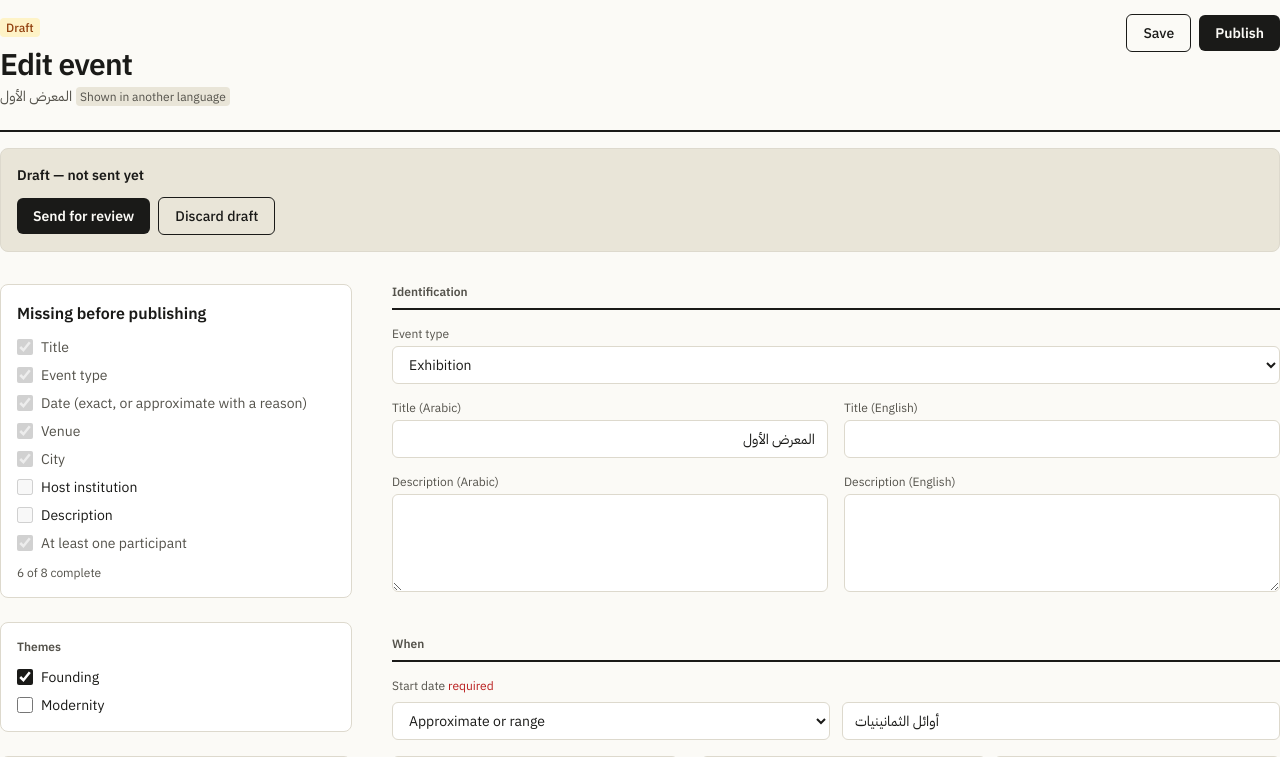
EventEditPage (edit) › draft mode (proposals.submit) › discarding the draft resets the form to live values
Click the button with test id "discard-draft" at (217, 216), box [158,197,275,235]
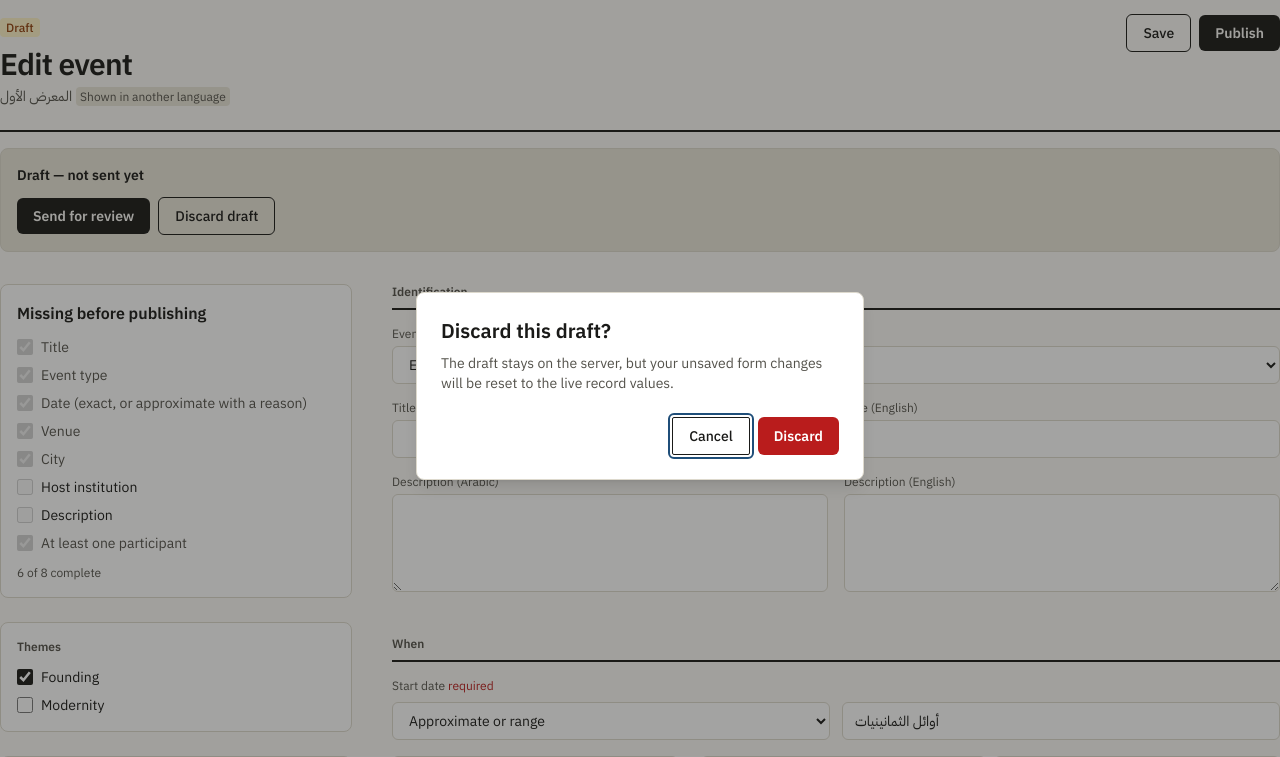
Click the button with test id "confirm-dialog-confirm" at (798, 436), box [758,417,839,455]
(page scrolled)
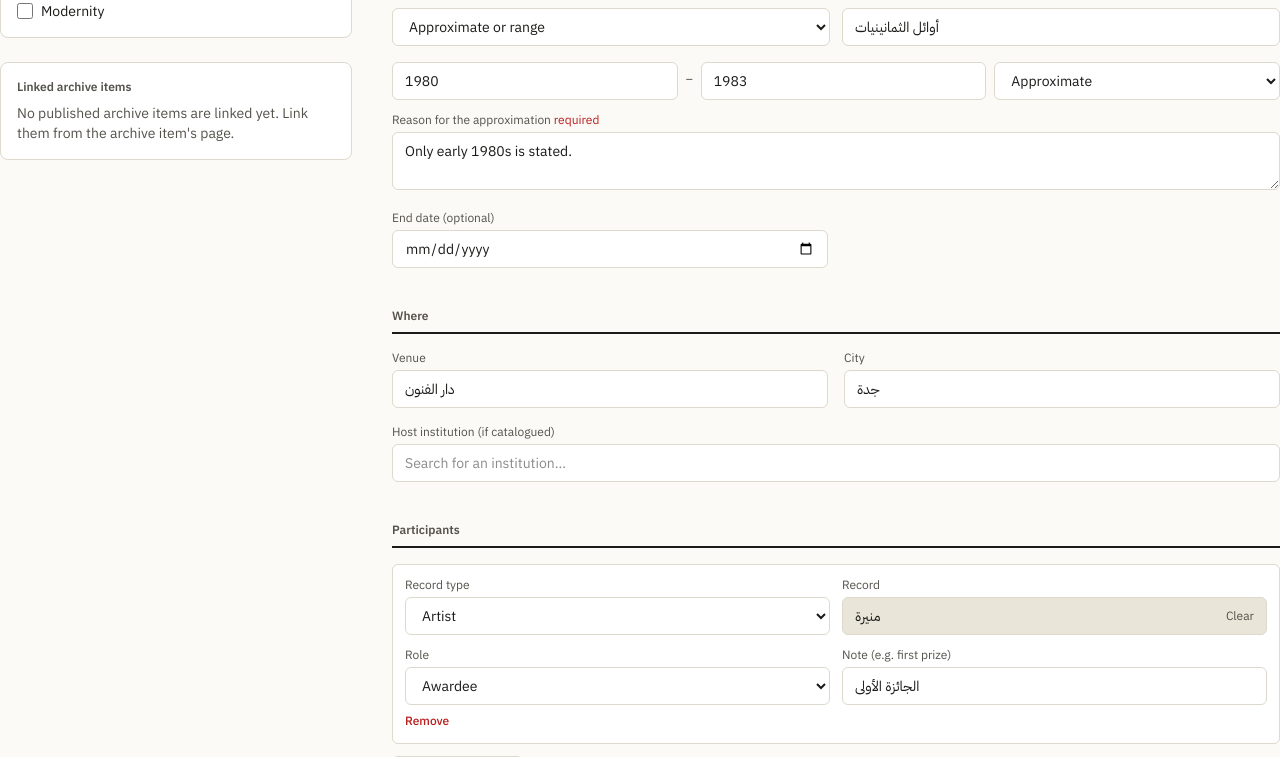
Expected: the field with test id "venue" holds "دار الفنون", [392,370,828,408]
